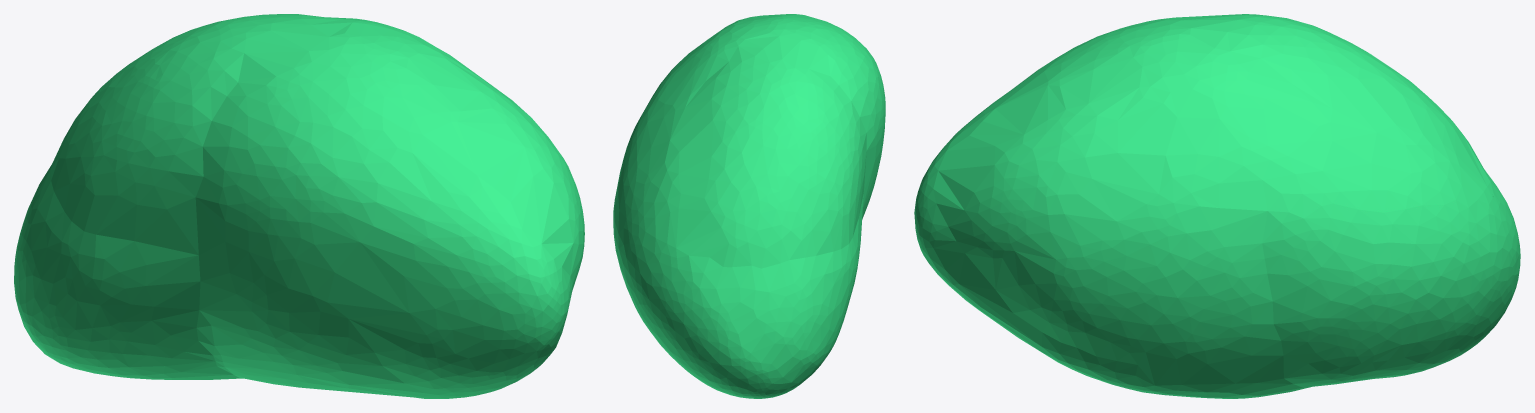
Rendered from Right_thalamus.obj.
3 views of the same model, side by side, from view 1: azimuth 30°, elevation 25°; view 2: azimuth 150°, elevation 25°; view 3: azimuth 270°, elevation 25° (orthographic). The views are drawn at different scales.
Parts seen in each view (by area): view 1: obj0; view 2: obj0; view 3: obj0.
Boxes of the visible parts, x1,y1,x2,y2 form: obj0: (14, 14, 584, 398); obj0: (613, 14, 885, 398); obj0: (914, 14, 1520, 398).
Size of the model in its own units: 16.11 by 16.25 by 25.09.
1 material, 1 textured.
